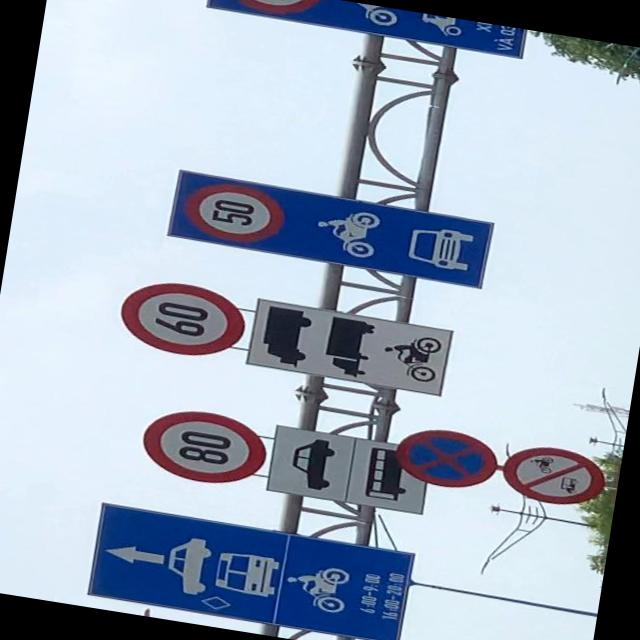P-104: (498, 439, 606, 510)
P-127: (118, 274, 250, 362), (136, 402, 270, 488)
P-130: (390, 423, 498, 492)
